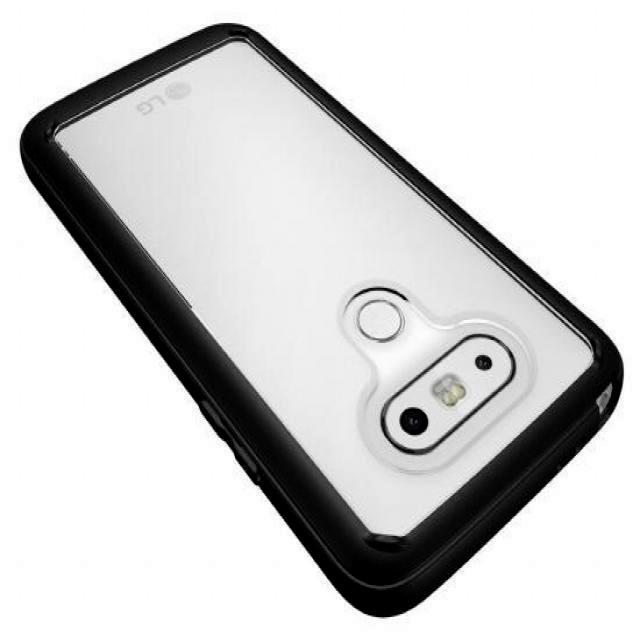lens_back: (400, 404, 444, 442), (474, 350, 511, 386)
